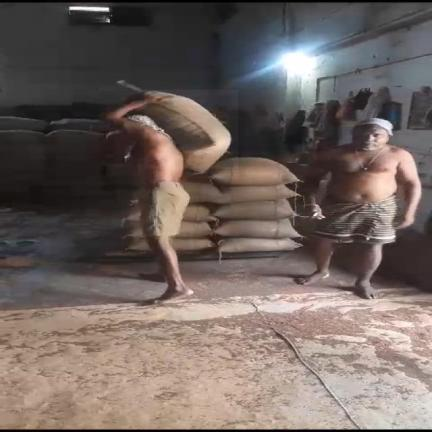Zone-Counting: (108, 92, 230, 302)
